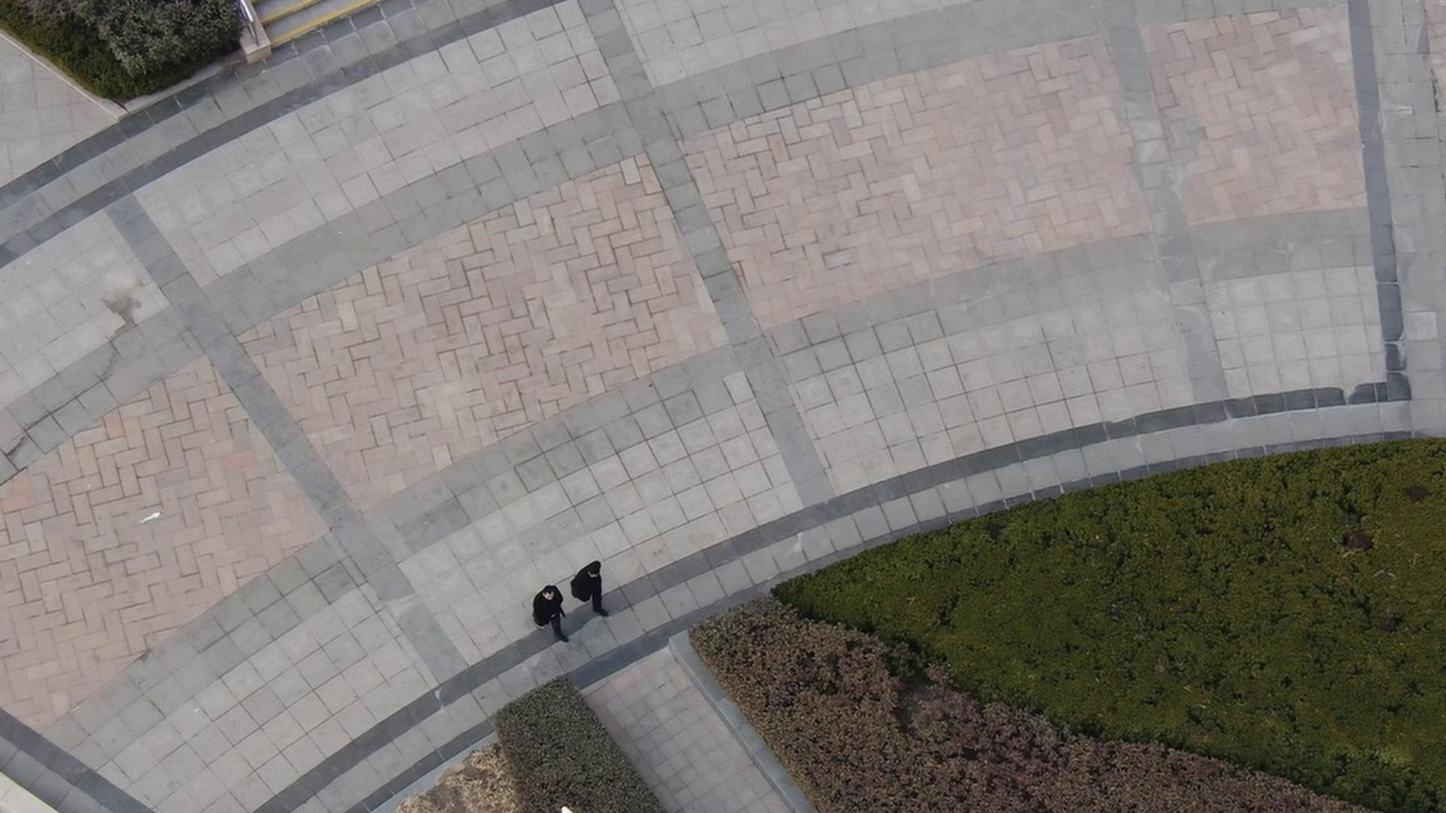human: (532, 577, 575, 643), (578, 554, 615, 623)
